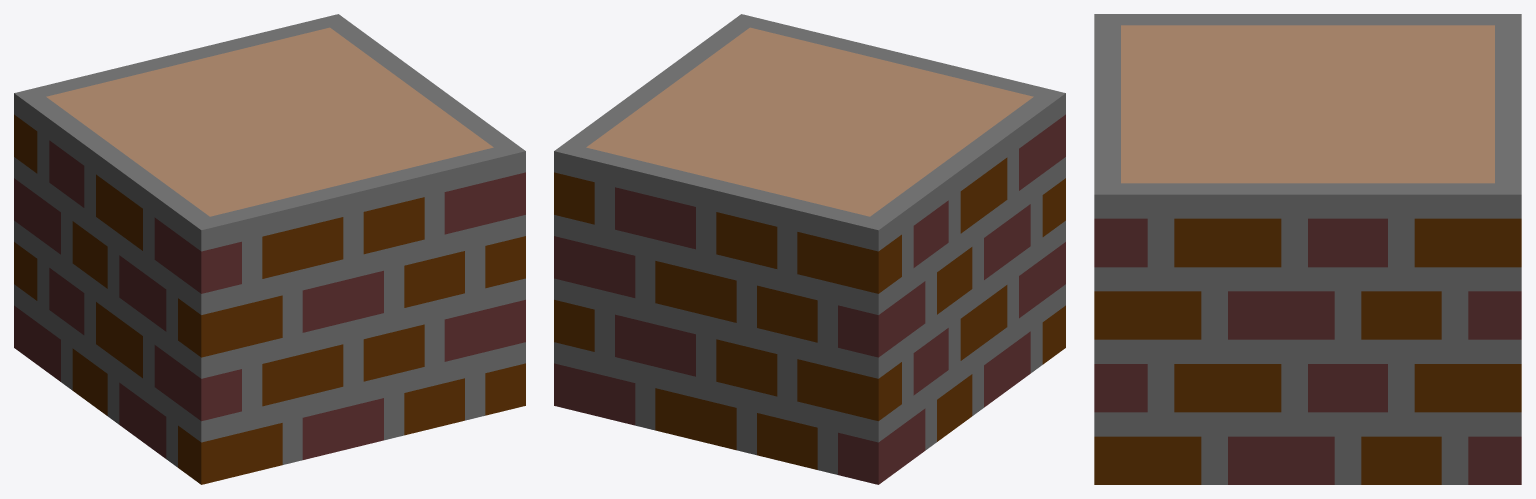
The model's file is WallsSimpleV1BrickSmall.obj.
The picture shows the model from 3 angles, left to right: view 1: azimuth 30°, elevation 25°; view 2: azimuth 150°, elevation 25°; view 3: azimuth 270°, elevation 25°; orthographic projection. The views are drawn at different scales.
Bounding box in the file's own units: 1.6 × 1.2 × 1.6.
1 material, 1 textured.
